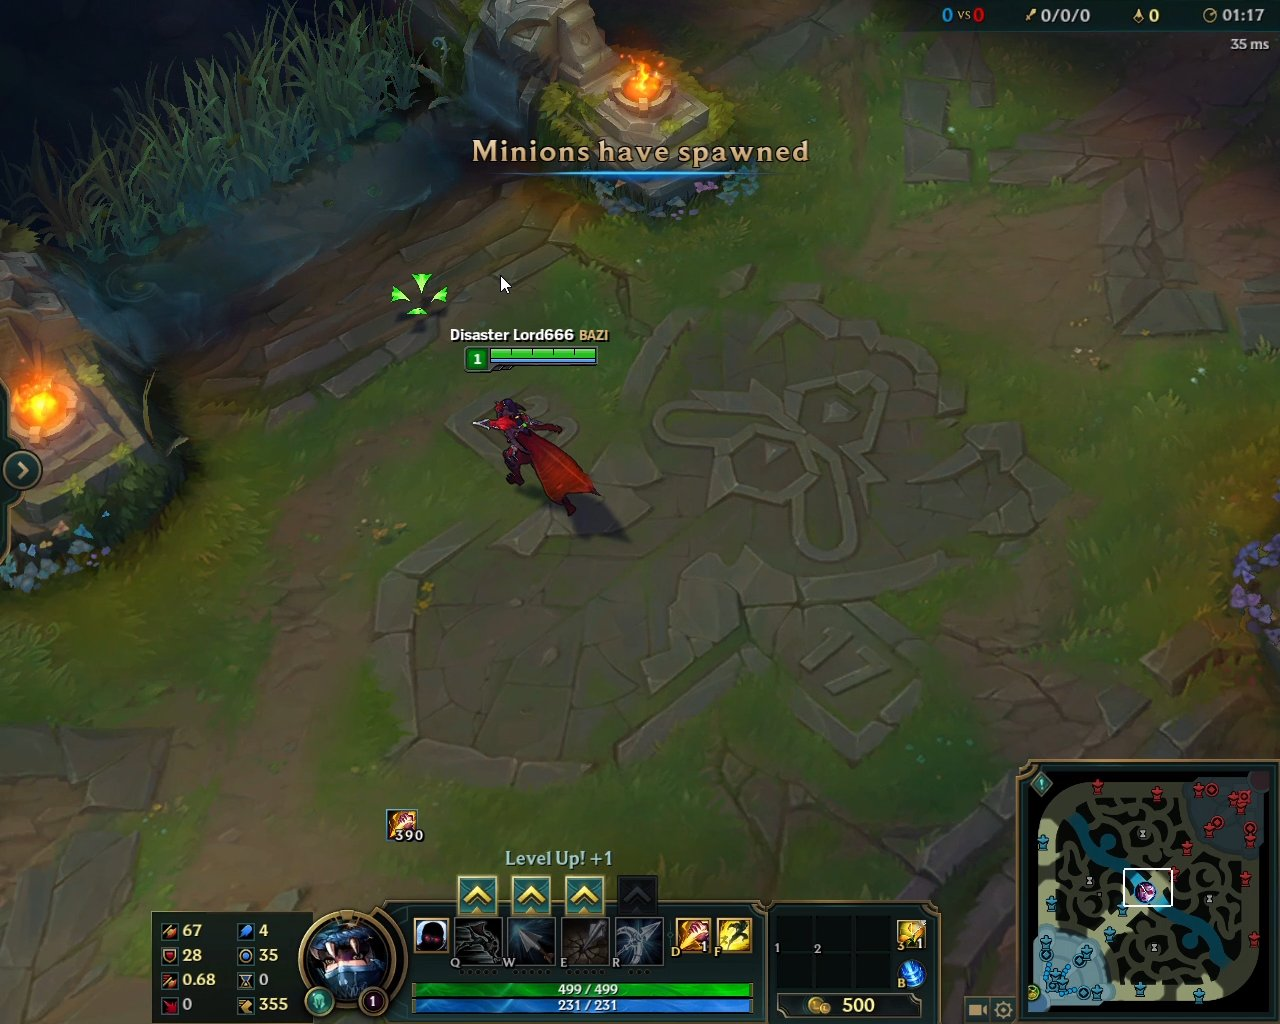Vayne: (469, 393, 609, 526)
